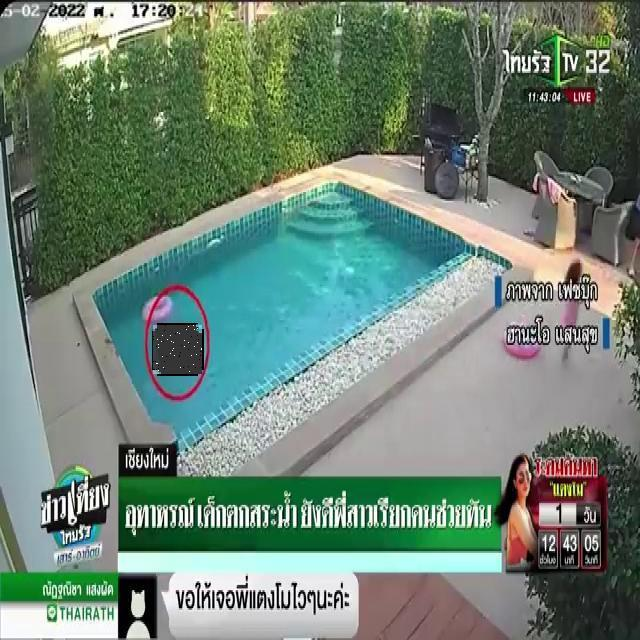Out of Water: (153, 325, 202, 374)
